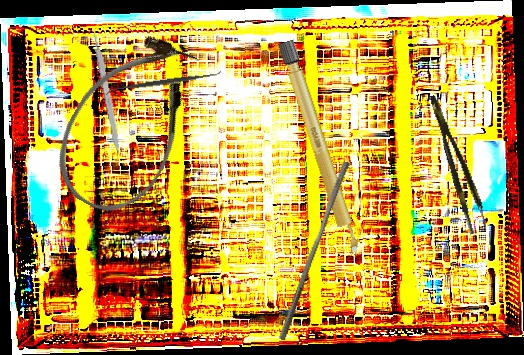Cannula: (37, 18, 220, 229)
Pusher: (278, 158, 351, 344)
Scalpel Handle: (277, 39, 363, 258), (91, 30, 124, 156)
Spatula Surgical: (104, 67, 223, 98)
Tissue Forceps: (427, 91, 490, 235)
